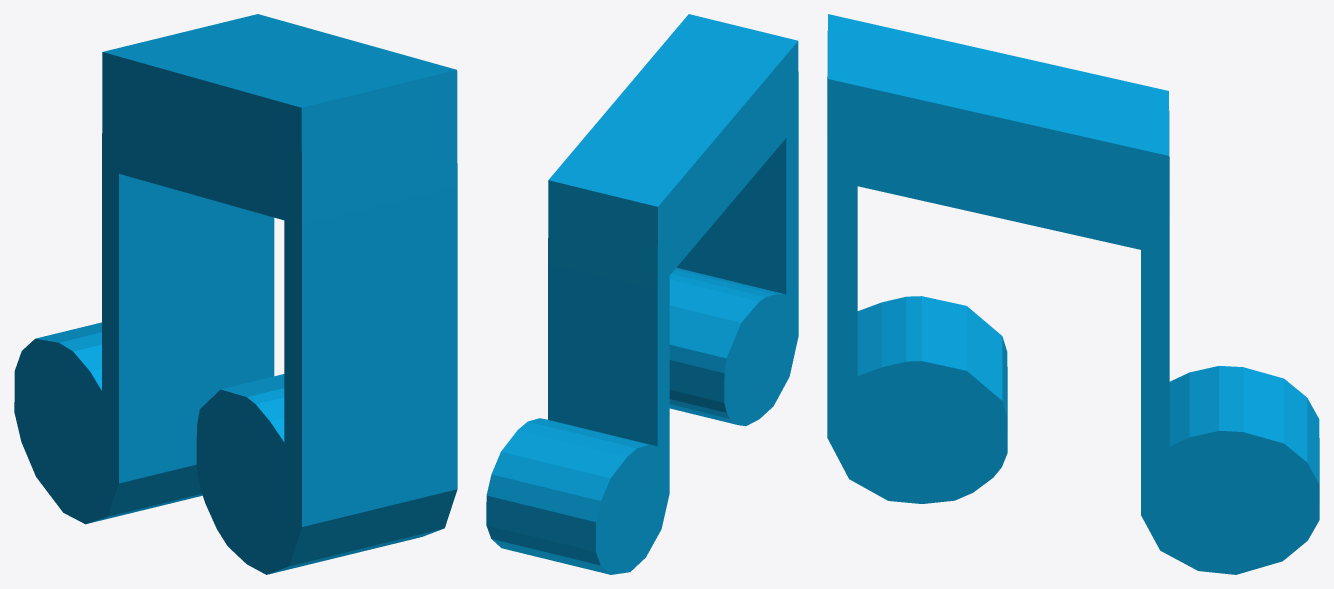
The model's file is 8th Note.fbx.
3 renders of one model, left to right at view 1: azimuth 30°, elevation 25°; view 2: azimuth 150°, elevation 25°; view 3: azimuth 270°, elevation 25°, orthographic. The views are drawn at different scales.
Visible parts, largest first — view 1: Cube; view 2: Cube; view 3: Cube.
Part boxes in pixels (x1=…): Cube: x1=14, y1=14, x2=457, y2=574; Cube: x1=486, y1=14, x2=798, y2=574; Cube: x1=827, y1=14, x2=1319, y2=574.
Size of the model in its own units: 200 by 712 by 641.
